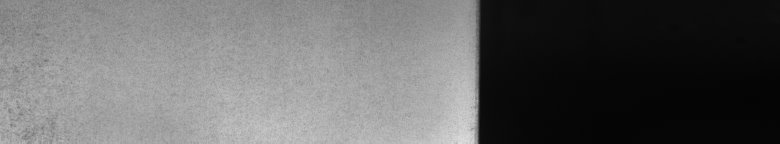ib: (4, 55, 56, 136)
